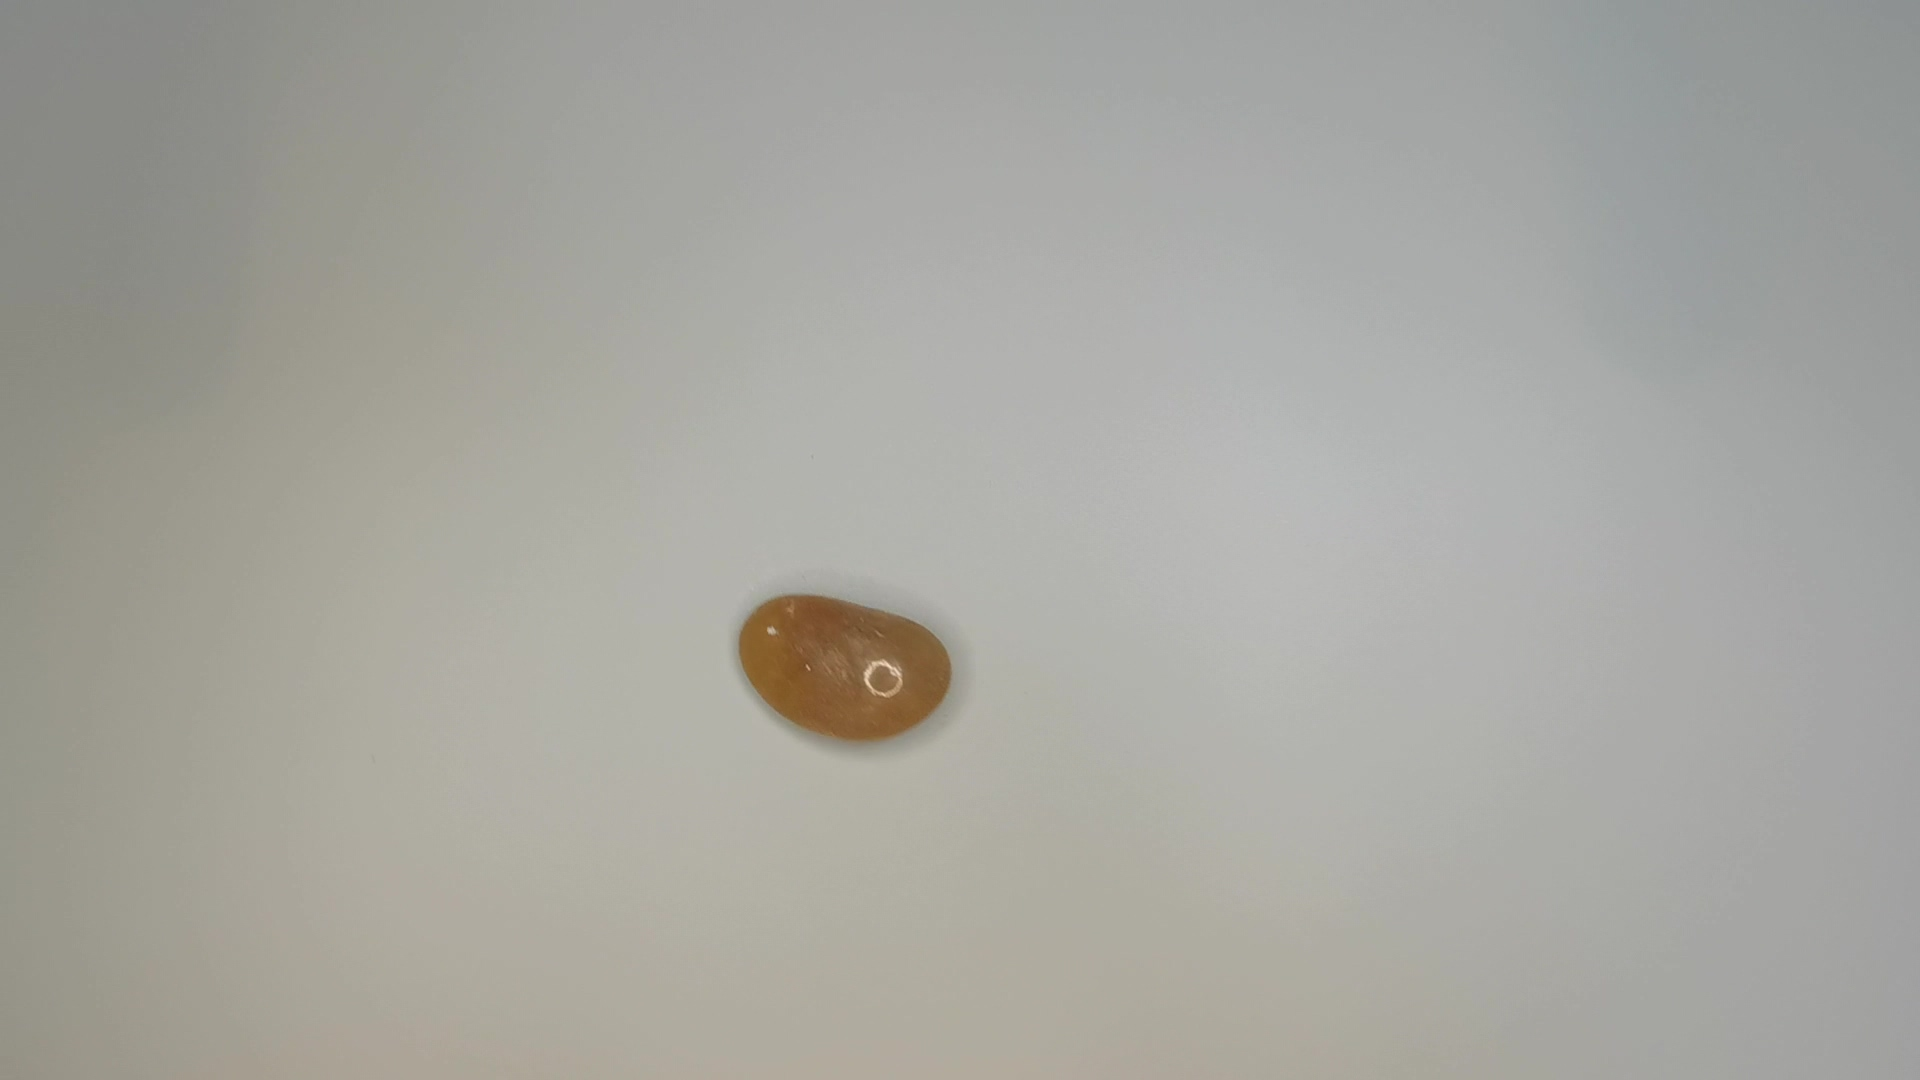ceramic: (733, 591, 967, 746)
